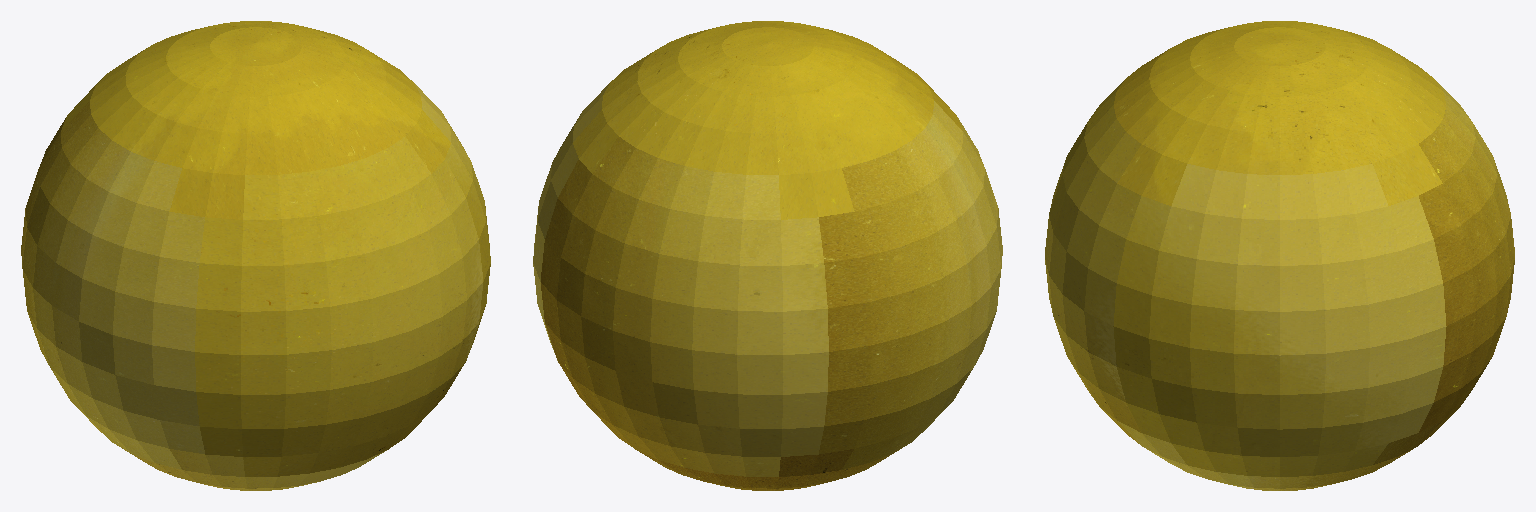
3 views of the same model, side by side, from view 1: azimuth 30°, elevation 25°; view 2: azimuth 150°, elevation 25°; view 3: azimuth 270°, elevation 25° (orthographic).
Parts seen in each view (by area): view 1: Sphere; view 2: Sphere; view 3: Sphere.
Part boxes in pixels (bbox=[...]): Sphere: bbox=[21, 21, 490, 490]; Sphere: bbox=[533, 21, 1002, 490]; Sphere: bbox=[1045, 21, 1514, 490].
Size of the model in its own units: 0.0194 by 0.0194 by 0.0194.
Materials: 1 (1 with a texture image).